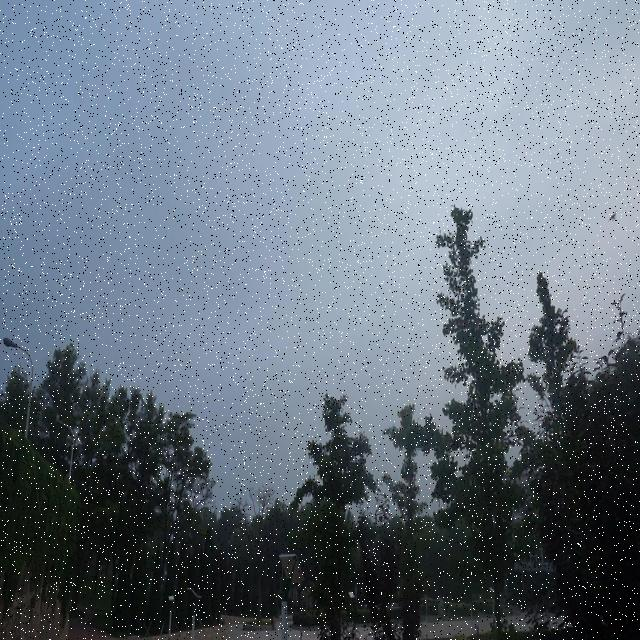UAV: (608, 210, 618, 222)
